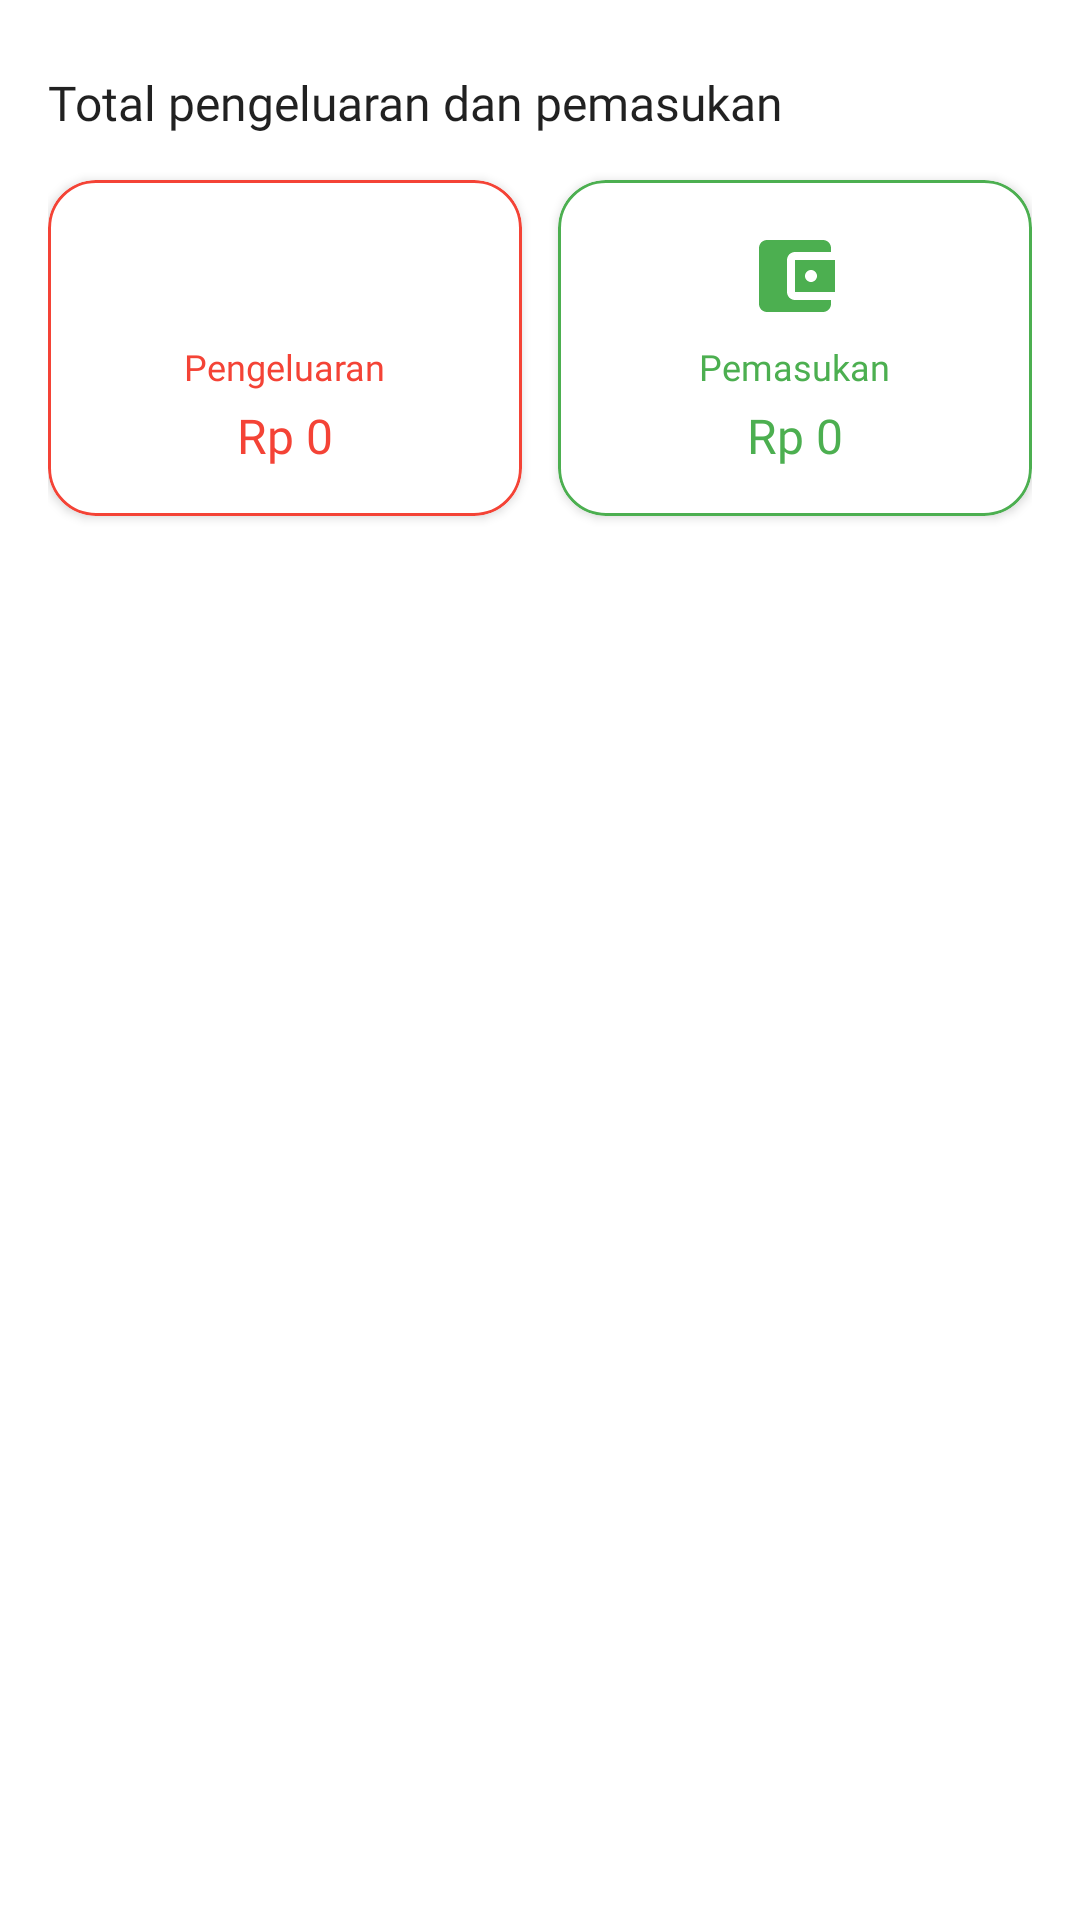

Named icons in this screenshot (1080*1920) and their centers, (x=x, y=y):
account balance wallet: (x=797, y=276)
